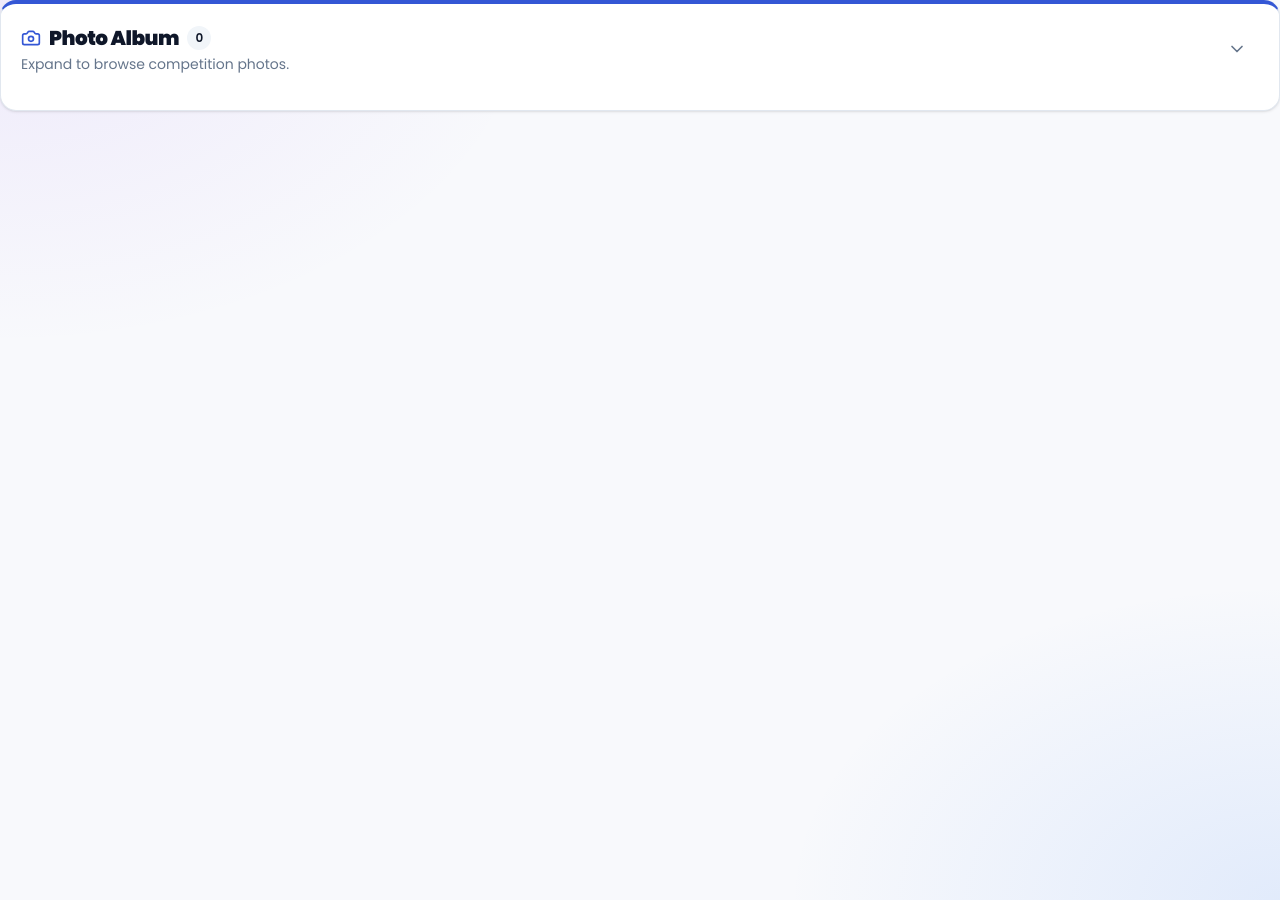
competition album collapse and admin explanation › does not show the admin guide to non-admins (support review access: false)
The width and height of the screenshot is (1280, 900).
What coordinates should you click on to do the following:
click the button with test id "button-toggle-competition-album"
I would click on:
 (114, 38)
Its box is x1=21 y1=24 x2=1247 y2=74.
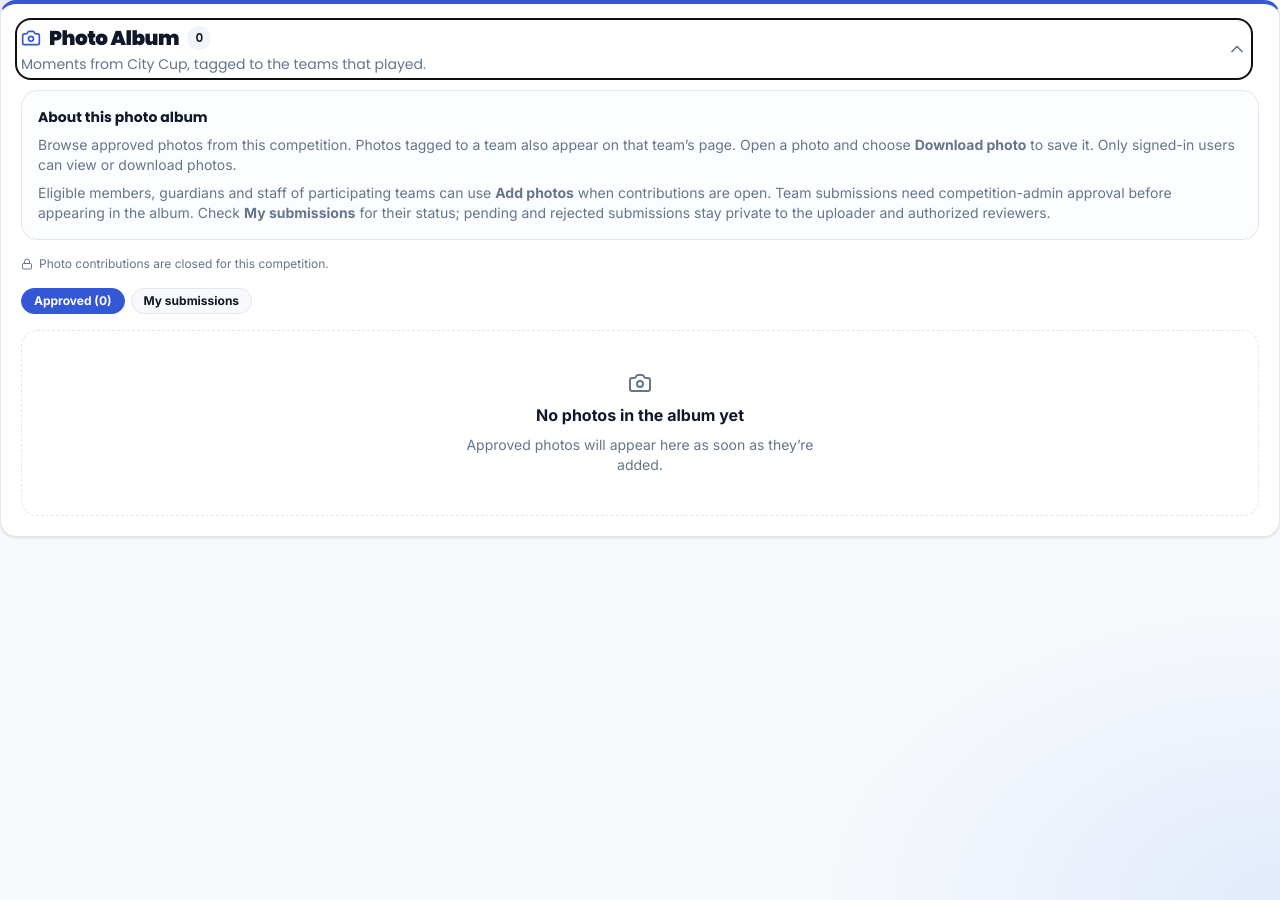
Now the element with test id "guide-competition-photos-members" shows "Download photo", box x1=915 y1=136 x2=1026 y2=153
Now the element with test id "guide-competition-photos-members" shows "competition-admin approval", box x1=38 y1=184 x2=1172 y2=221
Now the element with test id "guide-competition-photos-members" shows "Only signed-in users", box x1=38 y1=136 x2=1235 y2=173
